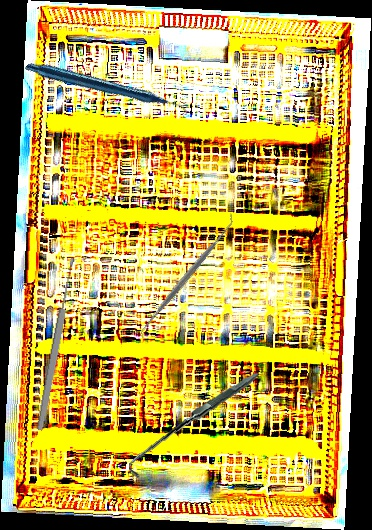Handpiece: (24, 5, 189, 175)
Hook Surgical: (128, 362, 258, 489)
Spatula Surgical: (131, 211, 243, 341)
Surgical Spoon: (34, 257, 79, 431)
